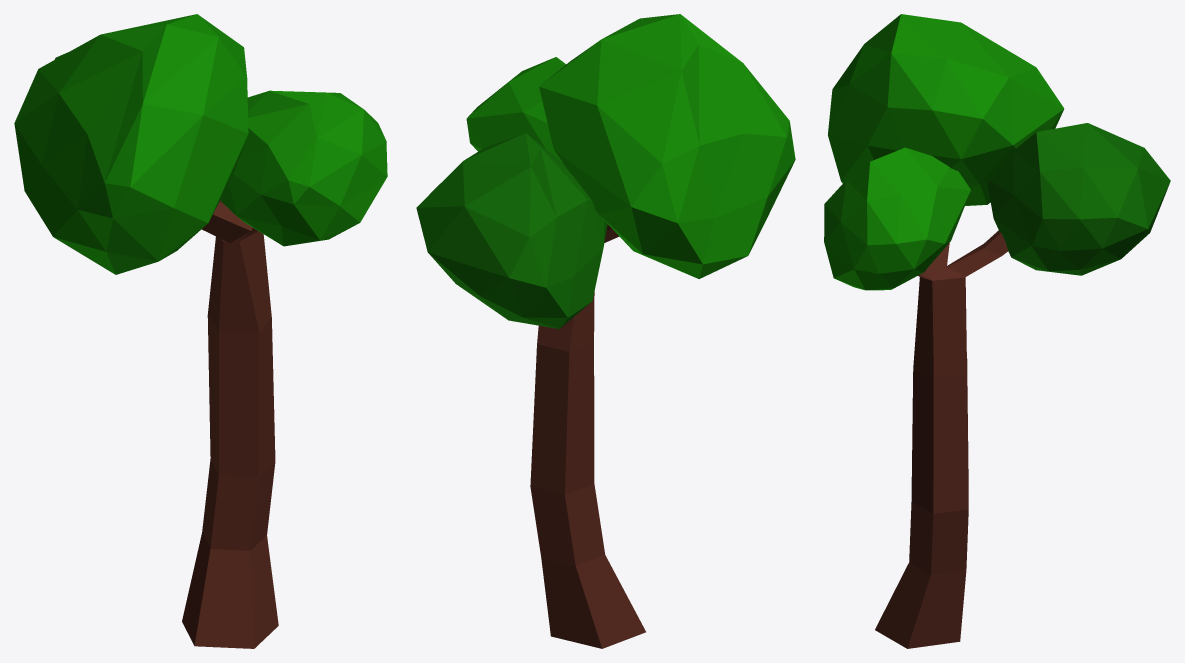
The model's file is tree11.fbx.
The picture shows the model from 3 angles, left to right: view 1: azimuth 30°, elevation 25°; view 2: azimuth 150°, elevation 25°; view 3: azimuth 270°, elevation 25°; orthographic projection. The views are drawn at different scales.
Parts seen in each view (by area): view 1: Tree5.003; view 2: Tree5.003; view 3: Tree5.003.
Boxes of the visible parts, left/top/right/bottom form: Tree5.003: left=14, top=14, right=387, bottom=648; Tree5.003: left=416, top=14, right=795, bottom=648; Tree5.003: left=824, top=14, right=1170, bottom=648.
Size of the model in its own units: 16.57 by 33.36 by 17.98.
